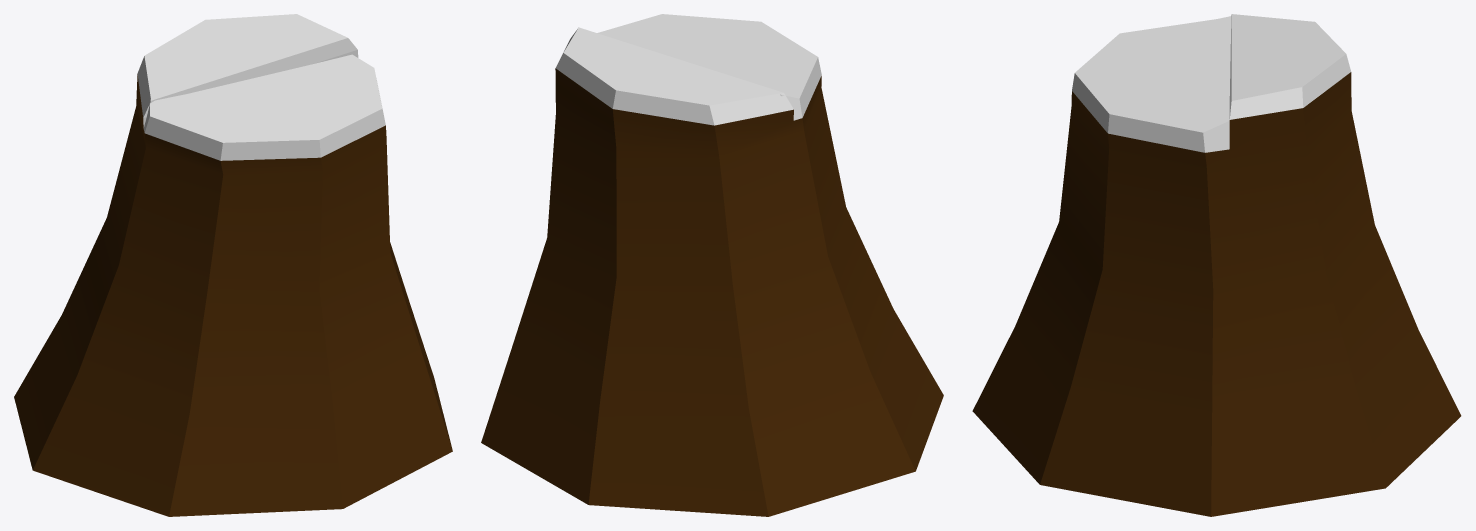
The model's file is Tree_stump.fbx.
3 views of the same model, side by side, from view 1: azimuth 30°, elevation 25°; view 2: azimuth 150°, elevation 25°; view 3: azimuth 270°, elevation 25° (orthographic). The views are drawn at different scales.
Visible parts, largest first — view 1: Tree_stump; view 2: Tree_stump; view 3: Tree_stump.
Boxes of the visible parts, box(x1,y1,x2,y2) form: Tree_stump: box(14, 14, 452, 516); Tree_stump: box(481, 14, 943, 516); Tree_stump: box(972, 14, 1461, 516).
Bounding box in the file's own units: 69.71 × 59.84 × 69.71.
